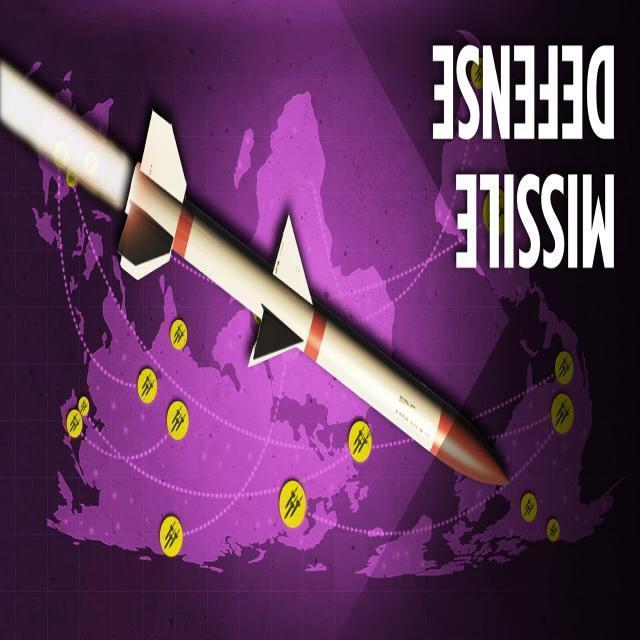Missile: (120, 100, 511, 503)
